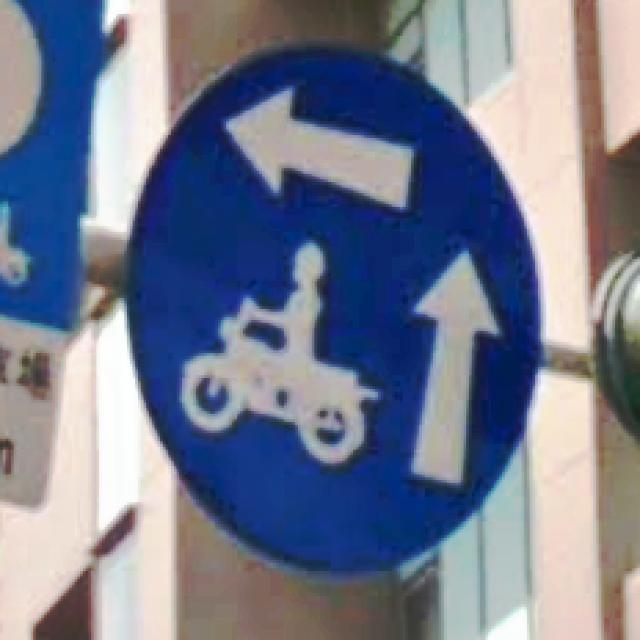twostageturn: (127, 41, 546, 574)
